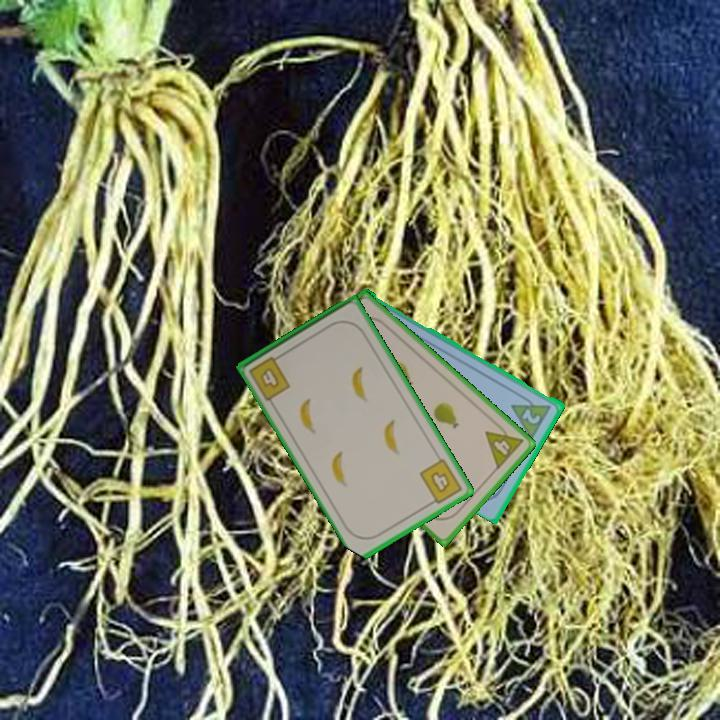2p: (519, 405, 544, 427)
4b: (416, 455, 465, 509), (245, 350, 294, 404)
4p: (482, 418, 526, 472)
